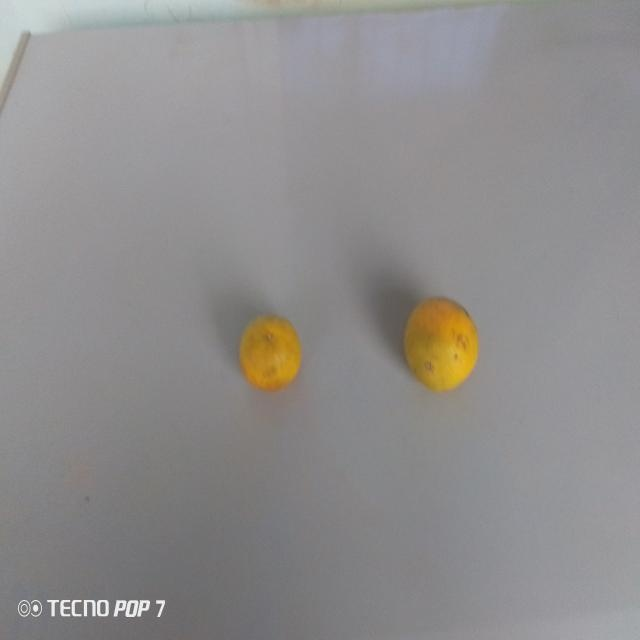agrume: (399, 294, 478, 404), (237, 306, 306, 401)
